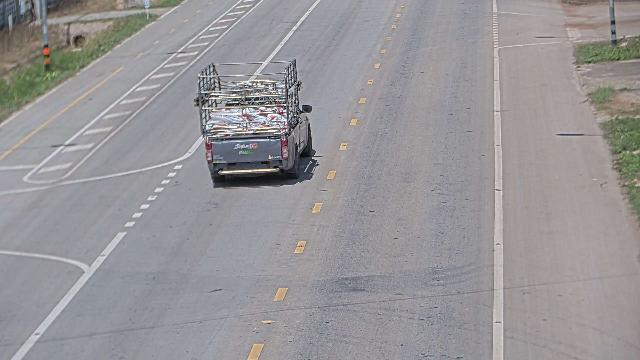pickup-truck: (193, 57, 313, 183)
